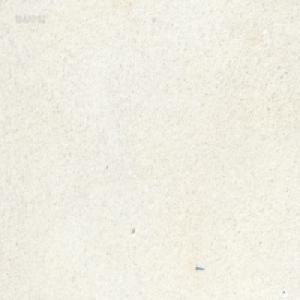Nail: (195, 264, 204, 270)
